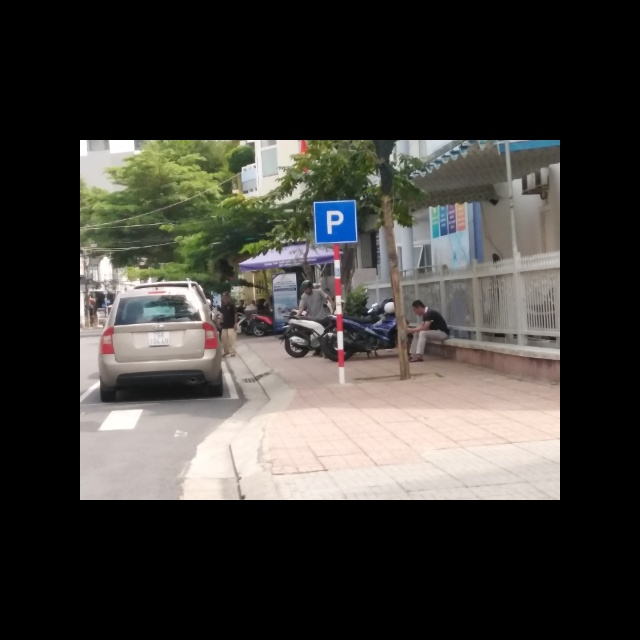Nơi đỗ xe: (313, 199, 359, 244)
